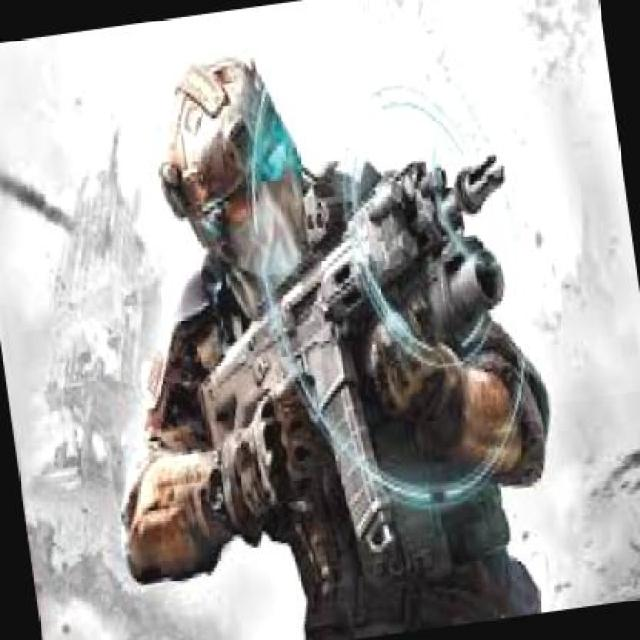MIL_Pax: (48, 7, 578, 638)
